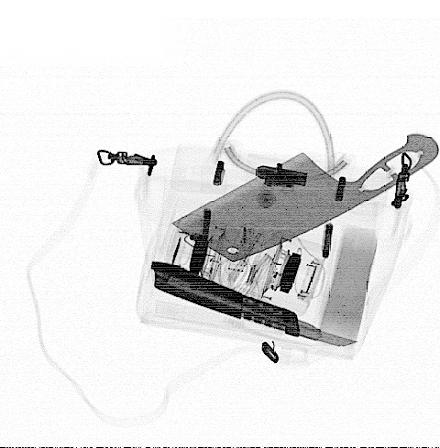Knife: (171, 133, 439, 263), (150, 260, 357, 348)
